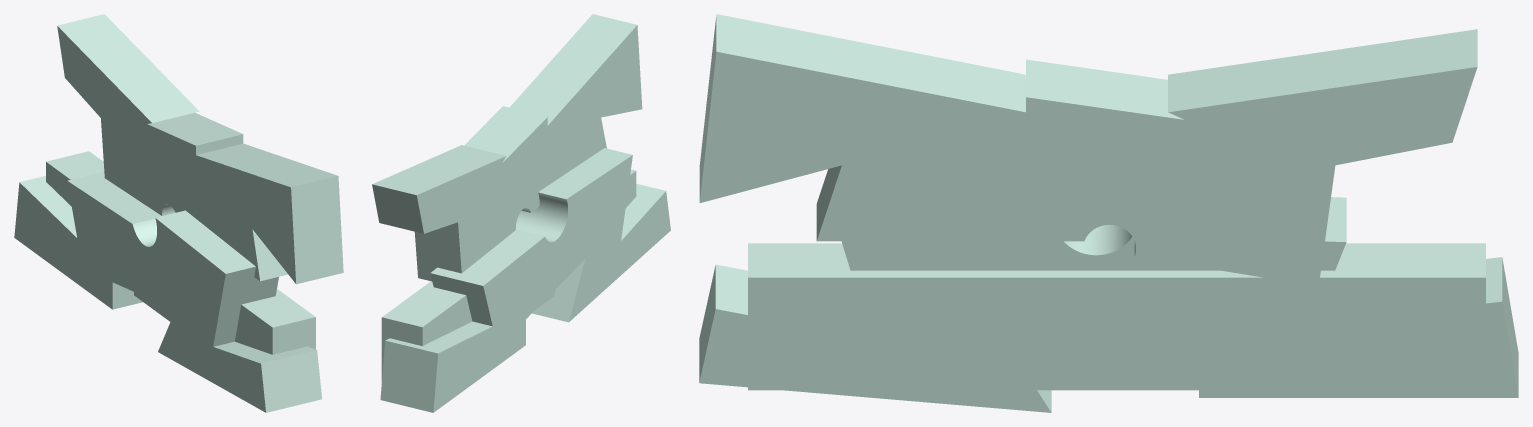
3 renders of one model, left to right at view 1: azimuth 30°, elevation 25°; view 2: azimuth 150°, elevation 25°; view 3: azimuth 270°, elevation 25°, orthographic. The views are drawn at different scales.
Parts seen in each view (by area): view 1: Renderer Node; view 2: Renderer Node; view 3: Renderer Node.
Part boxes in pixels (x1,y1,x2,y2): Renderer Node: (14,14,343,412); Renderer Node: (372,14,670,412); Renderer Node: (699,14,1518,412).
Size of the model in its own units: 0.1406 by 0.4023 by 0.7895.
